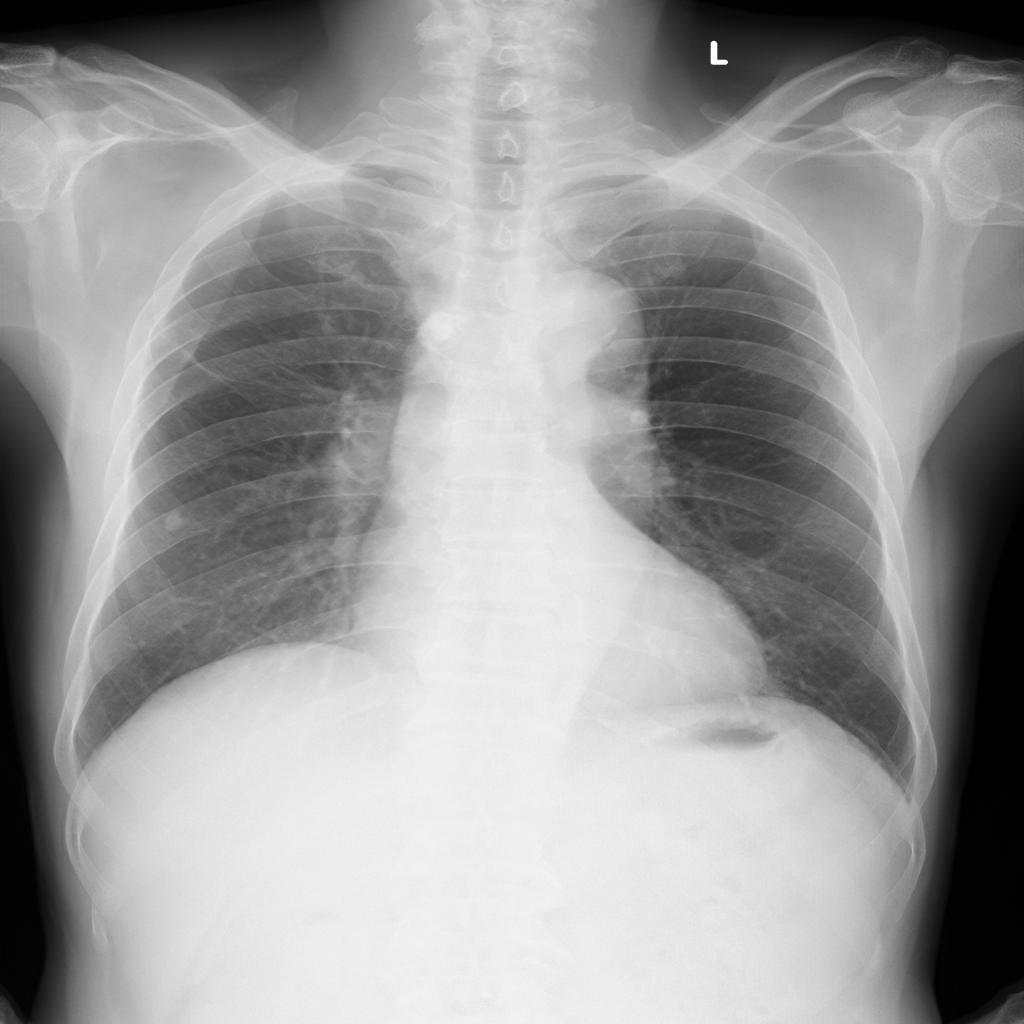Nodule: (164, 513, 185, 532)
